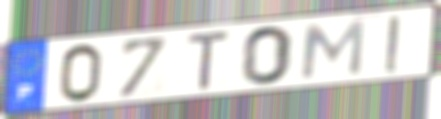0: (238, 24, 301, 88), (58, 42, 106, 105)
7: (118, 34, 173, 100)
I: (383, 14, 402, 75)
M: (297, 18, 368, 81)
T: (184, 29, 233, 94)
